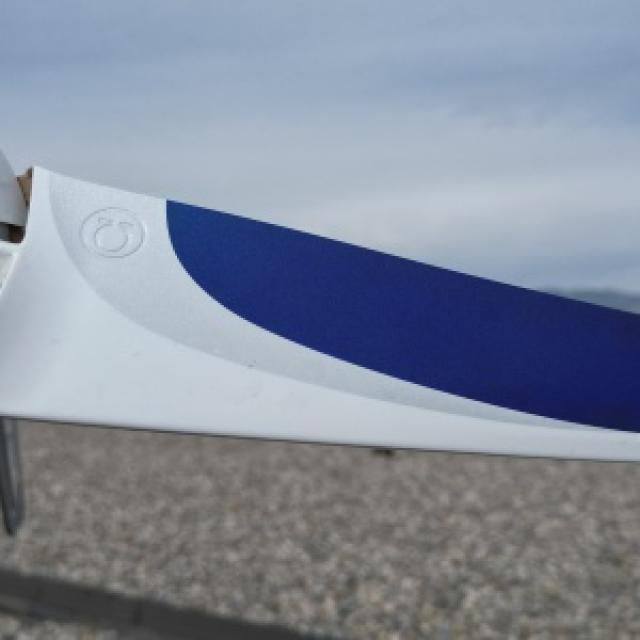healthy: (0, 158, 638, 459)
